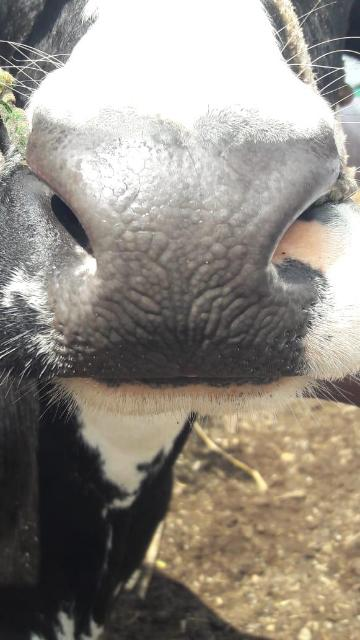Muzzle: (90, 142, 276, 378)
